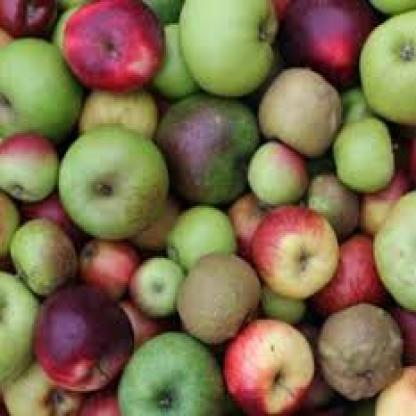apple: (47, 137, 170, 235), (250, 208, 343, 291)
damaged_apple: (155, 94, 254, 204), (27, 289, 130, 391), (173, 250, 266, 341), (63, 2, 166, 83), (320, 294, 402, 394), (248, 69, 345, 144), (5, 220, 86, 294)
